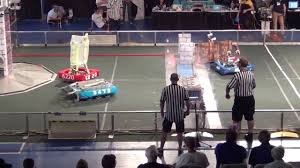ref: (161, 82, 188, 123), (227, 70, 259, 100)
